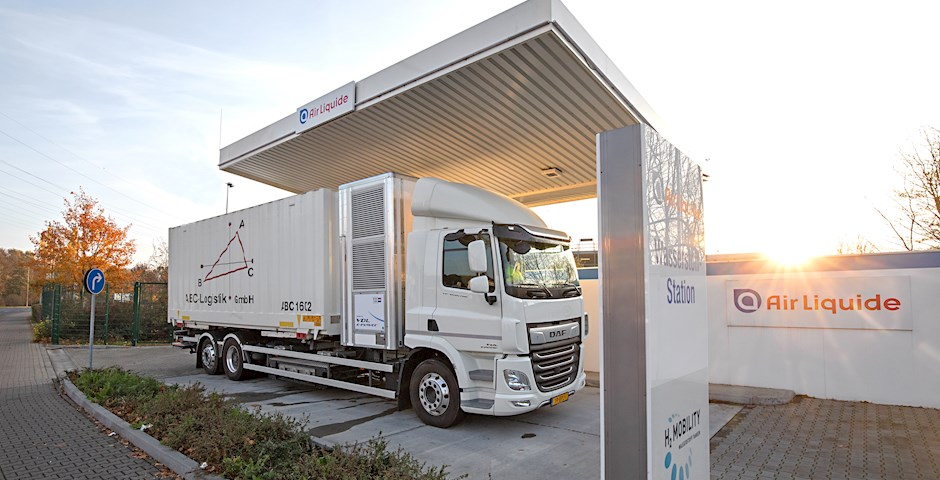truck: (168, 170, 585, 430)
